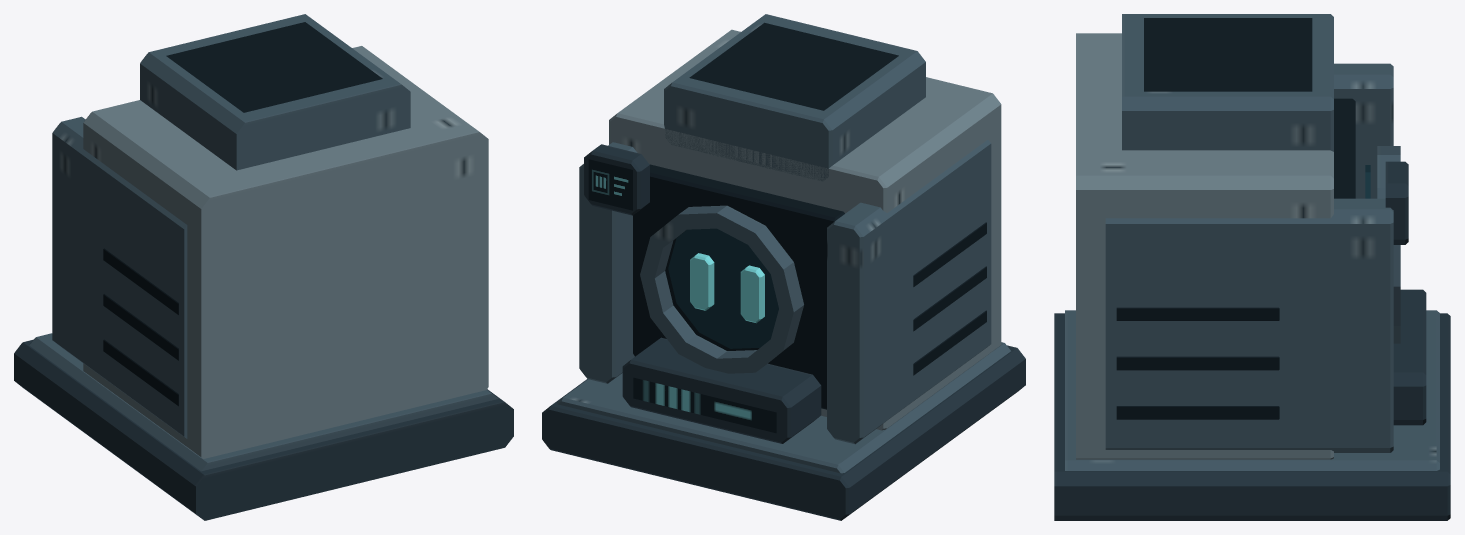
Rendered from voxel_refinery.obj.
The picture shows the model from 3 angles, left to right: view 1: azimuth 30°, elevation 25°; view 2: azimuth 150°, elevation 25°; view 3: azimuth 270°, elevation 25°; orthographic projection. The views are drawn at different scales.
Parts seen in each view (by area): view 1: armored_rear_chassis, shoulder_1_25, plinth, feed_hopper, hopper_mouth, plinth_trim, cooling_louver_1_42_0, cooling_louver_1_42_1, cooling_louver_1_42_2; view 2: shoulder_1_25, armored_rear_chassis, plinth, feed_hopper, inset_processing_bay, chamber_rim, hopper_mouth, collection_drawer, shoulder_13, plinth_trim, chamber_back, collection_mark (+7 smaller); view 3: shoulder_13, armored_rear_chassis, plinth, feed_hopper, hopper_mouth, plinth_trim, shoulder_1_25, collection_drawer, cooling_louver_14_58_1, cooling_louver_14_58_0, cooling_louver_14_58_2, inset_processing_bay (+2 smaller).
Part boxes in pixels (box(x1,y1,x2,y2)): armored_rear_chassis: box(83, 46, 488, 458); shoulder_1_25: box(52, 116, 187, 438); plinth: box(14, 339, 513, 520); feed_hopper: box(140, 14, 410, 170); hopper_mouth: box(166, 22, 382, 112); plinth_trim: box(29, 333, 498, 471); cooling_louver_1_42_0: box(103, 339, 178, 406); cooling_louver_1_42_1: box(103, 294, 178, 360); cooling_louver_1_42_2: box(103, 248, 178, 315); shoulder_1_25: box(827, 140, 991, 444); armored_rear_chassis: box(609, 29, 1001, 430); plinth: box(542, 345, 1025, 520); feed_hopper: box(664, 14, 925, 181); inset_processing_bay: box(633, 164, 844, 409); chamber_rim: box(640, 205, 803, 373); hopper_mouth: box(689, 22, 898, 110); collection_drawer: box(622, 337, 821, 443); shoulder_13: box(579, 142, 637, 383); plinth_trim: box(557, 342, 1010, 473); chamber_back: box(668, 228, 778, 348); collection_mark: box(633, 377, 776, 433); shoulder_13: box(1105, 198, 1393, 452); armored_rear_chassis: box(1076, 33, 1333, 459); plinth: box(1054, 313, 1450, 520); feed_hopper: box(1122, 14, 1333, 151); hopper_mouth: box(1144, 18, 1312, 91); plinth_trim: box(1065, 310, 1439, 470); shoulder_1_25: box(1334, 63, 1393, 198); collection_drawer: box(1393, 289, 1426, 425); cooling_louver_14_58_1: box(1116, 356, 1279, 370); cooling_louver_14_58_0: box(1116, 406, 1279, 419); cooling_louver_14_58_2: box(1116, 307, 1279, 320); inset_processing_bay: box(1334, 98, 1355, 198).
Size of the model in its own units: 0.9125 by 0.9825 by 0.9125.
